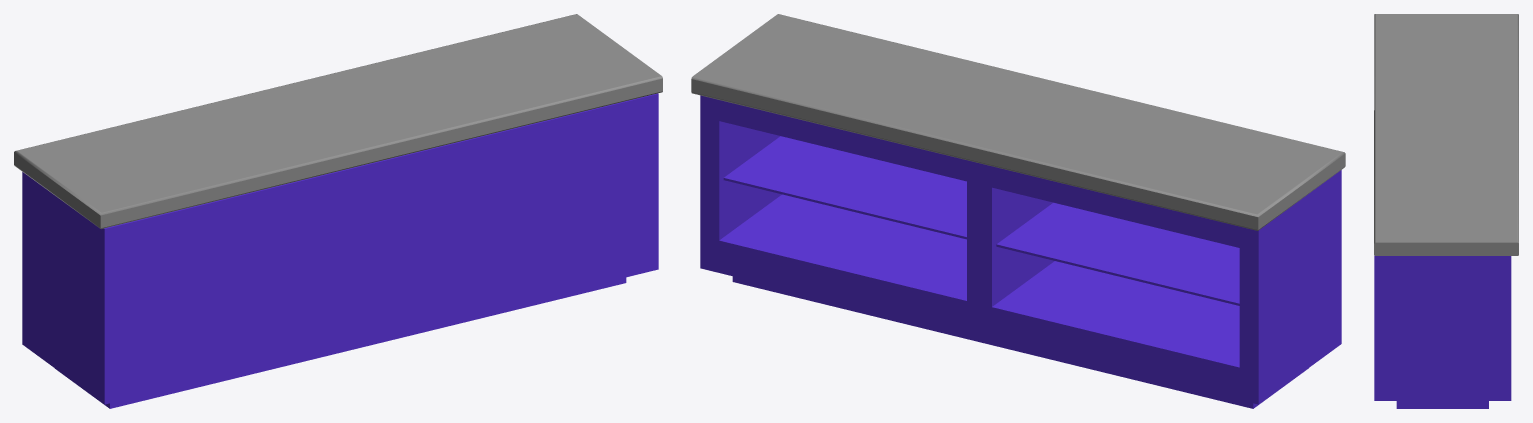
File: Prop_BackSnackCounter.fbx
The picture shows the model from 3 angles, left to right: view 1: azimuth 30°, elevation 25°; view 2: azimuth 150°, elevation 25°; view 3: azimuth 270°, elevation 25°; orthographic projection. The views are drawn at different scales.
Parts seen in each view (by area): view 1: SnackCounter_Main, SnackCounter_Countertop; view 2: SnackCounter_Main, SnackCounter_Countertop; view 3: SnackCounter_Countertop, SnackCounter_Main.
Boxes of the visible parts, left/top/right/bottom form: SnackCounter_Main: left=22, top=93, right=658, bottom=408; SnackCounter_Countertop: left=14, top=14, right=662, bottom=228; SnackCounter_Main: left=700, top=95, right=1341, bottom=408; SnackCounter_Countertop: left=691, top=14, right=1345, bottom=230; SnackCounter_Countertop: left=1374, top=14, right=1518, bottom=255; SnackCounter_Main: left=1374, top=255, right=1511, bottom=408.
Size of the model in its own units: 363 by 130 by 97.07.
